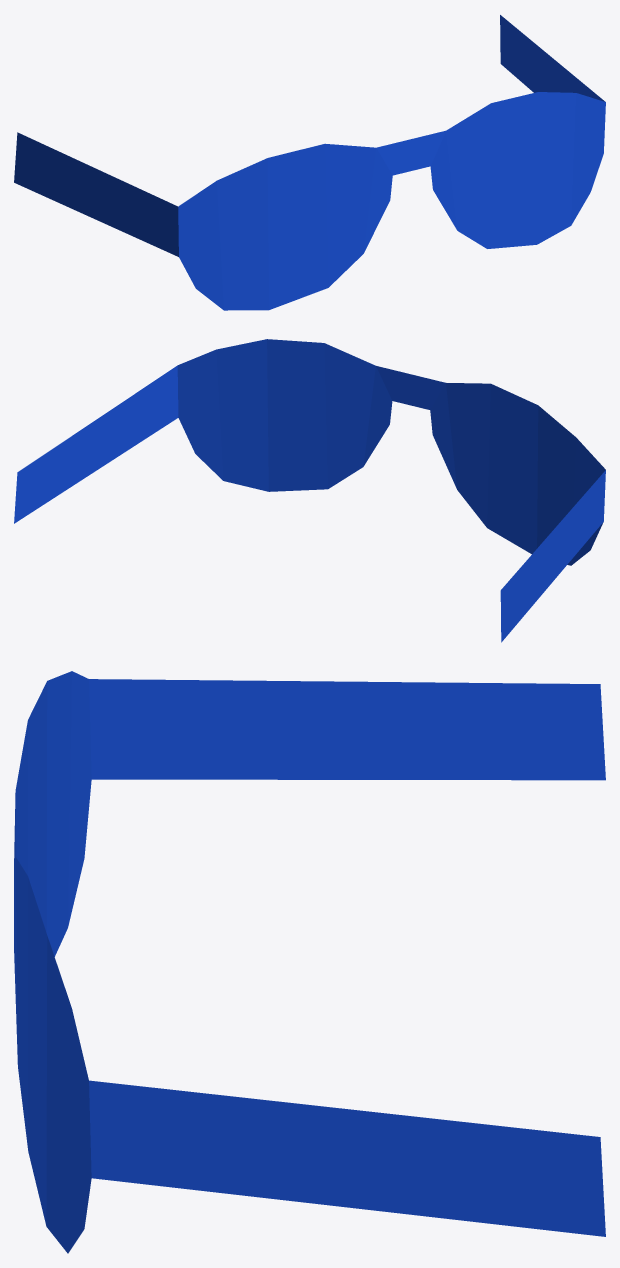
Rendered from Dude_glass.fbx.
The picture shows the model from 3 angles, top to bottom: view 1: azimuth 30°, elevation 25°; view 2: azimuth 150°, elevation 25°; view 3: azimuth 270°, elevation 25°; orthographic projection. The views are drawn at different scales.
Visible parts, largest first — view 1: Dude_glass_01; view 2: Dude_glass_01; view 3: Dude_glass_01.
Part boxes in pixels (left/top/right/bottom): Dude_glass_01: left=14, top=15, right=605, bottom=310; Dude_glass_01: left=14, top=339, right=605, bottom=642; Dude_glass_01: left=14, top=671, right=605, bottom=1253.
Bounding box in the file's own units: 45.41 × 14.05 × 24.87.
